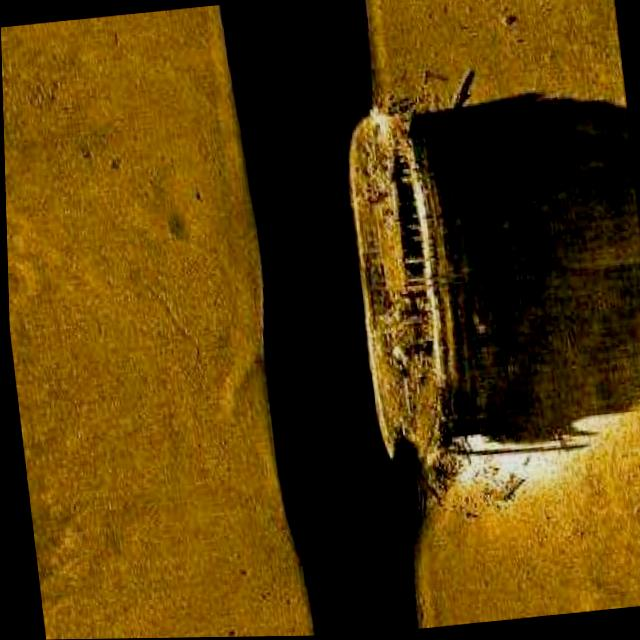shipwreck: (315, 80, 475, 497)
